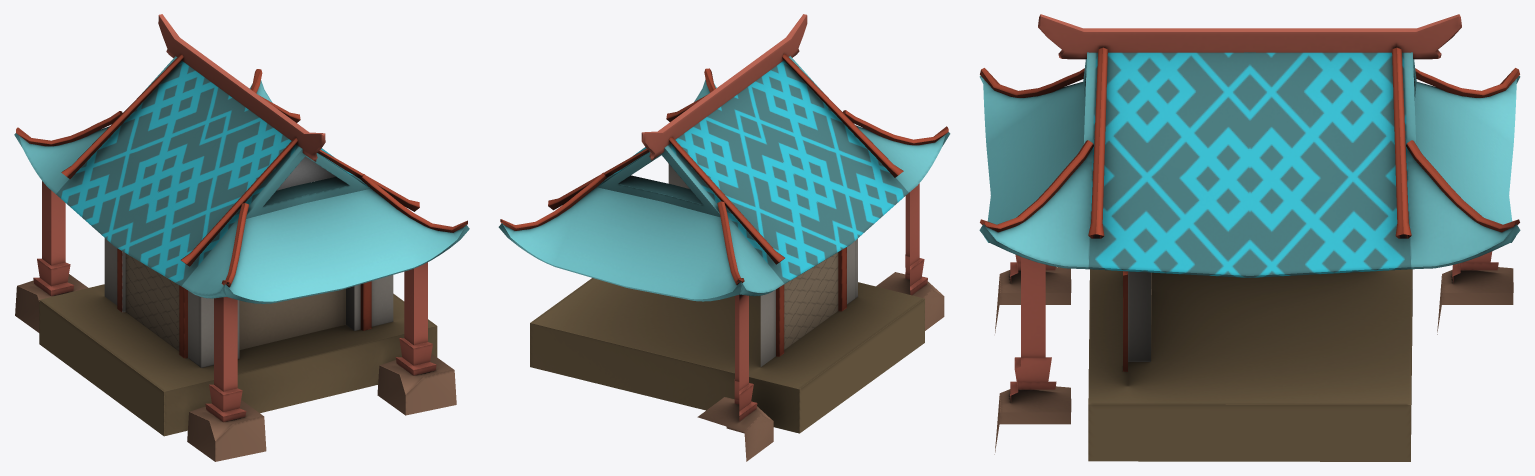
The model's file is house3_ver2.fbx.
The picture shows the model from 3 angles, left to right: view 1: azimuth 30°, elevation 25°; view 2: azimuth 150°, elevation 25°; view 3: azimuth 270°, elevation 25°; orthographic projection. The views are drawn at different scales.
Parts seen in each view (by area): view 1: polySurface145; view 2: polySurface145; view 3: polySurface145.
Boxes of the visible parts, <box> form: polySurface145: <box>14,14,469,461</box>; polySurface145: <box>498,14,950,461</box>; polySurface145: <box>979,14,1520,461</box>.
Size of the model in its own units: 3 by 3 by 4.
